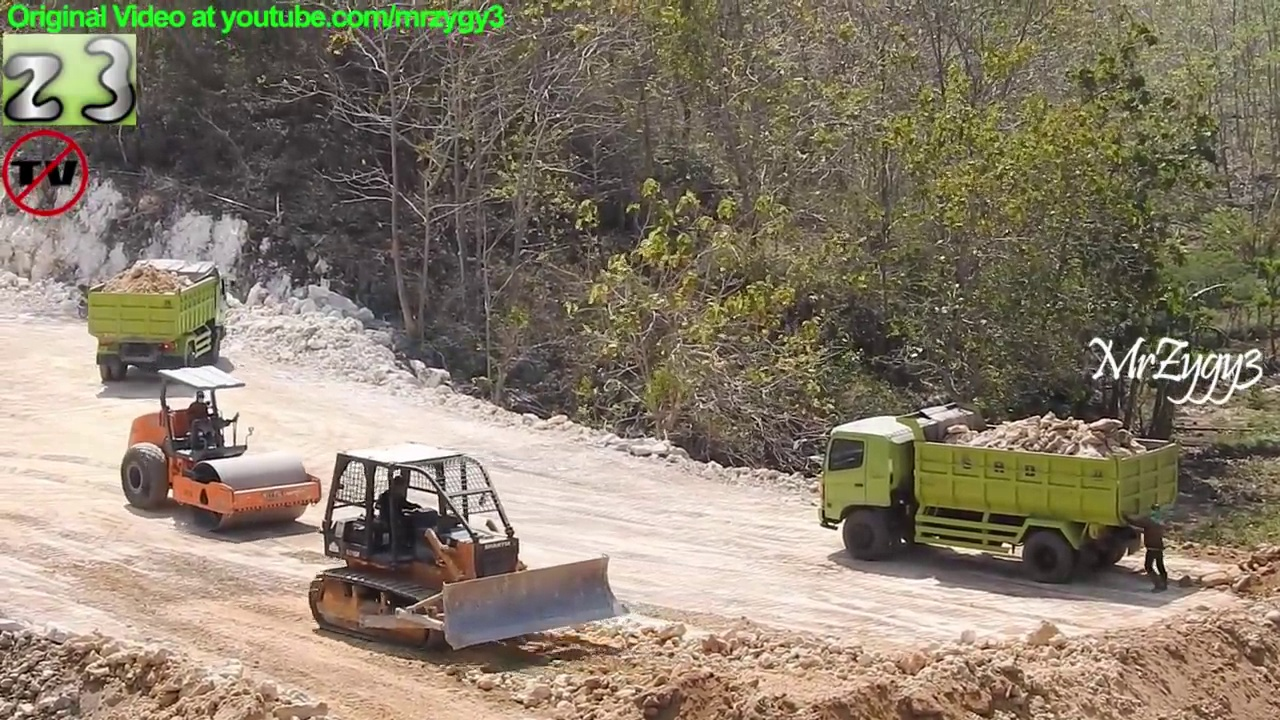bulldozer: (303, 441, 634, 659)
compactor: (117, 361, 327, 537)
truck: (803, 400, 1186, 586), (79, 254, 236, 389)
